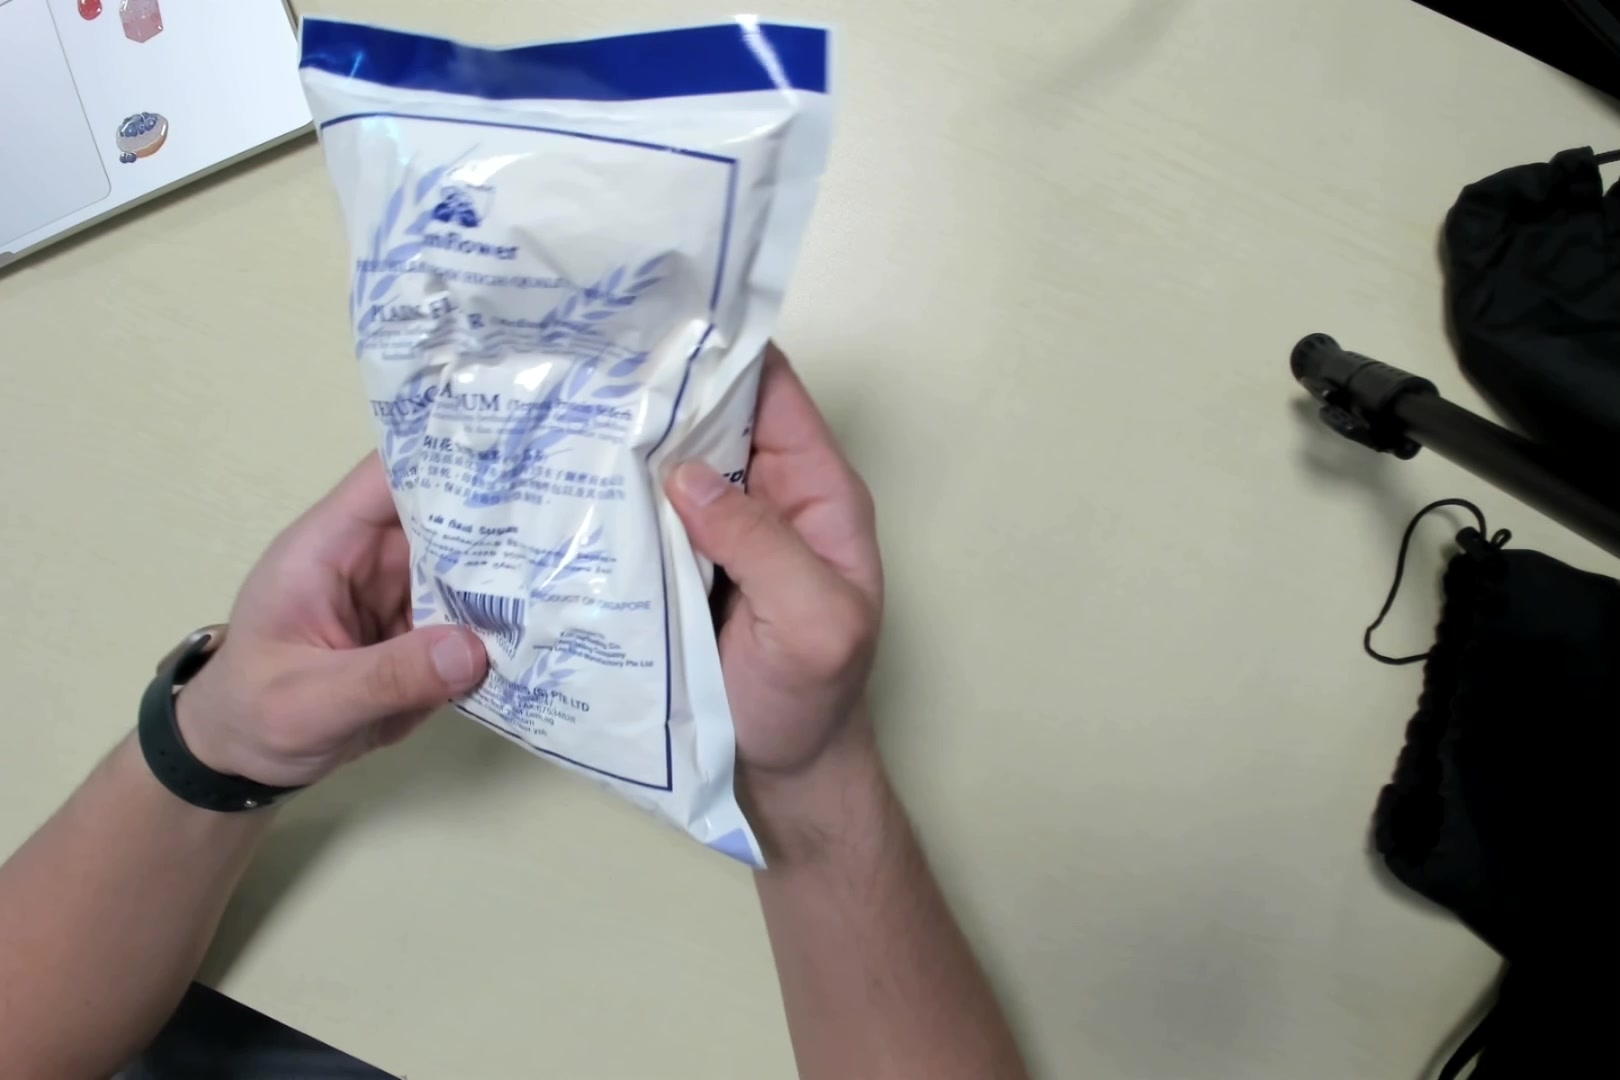Flour_500-599g_NonHalal_NonHealthy: (327, 45, 782, 841)
